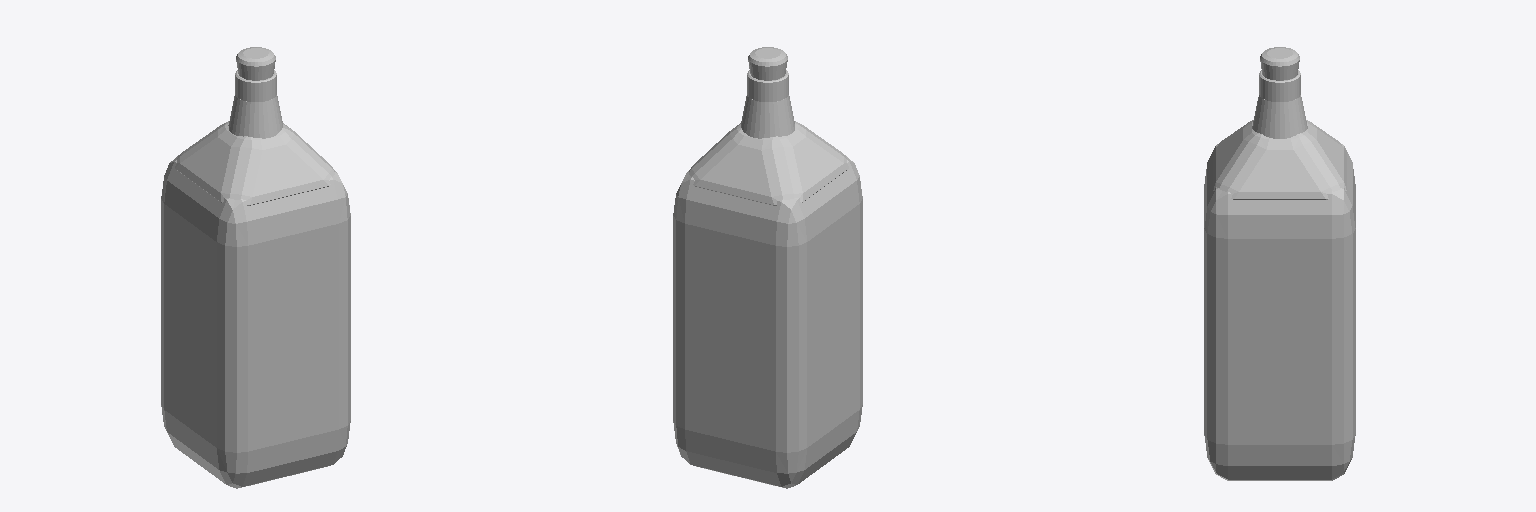
The model's file is bouteille.obj.
3 views of the same model, side by side, from view 1: azimuth 30°, elevation 25°; view 2: azimuth 150°, elevation 25°; view 3: azimuth 270°, elevation 25° (orthographic).
Visible parts, largest first — view 1: Cube.001, Cylindre.002; view 2: Cube.001, Cylindre.002; view 3: Cube.001, Cylindre.002.
Part boxes in pixels (bbox=[...]): Cube.001: bbox=[161, 70, 350, 488]; Cylindre.002: bbox=[236, 47, 275, 80]; Cube.001: bbox=[673, 70, 862, 488]; Cylindre.002: bbox=[748, 47, 787, 80]; Cube.001: bbox=[1204, 70, 1355, 480]; Cylindre.002: bbox=[1260, 47, 1299, 80].
Bounding box in the file's own units: 0.8 × 2.36 × 0.8.